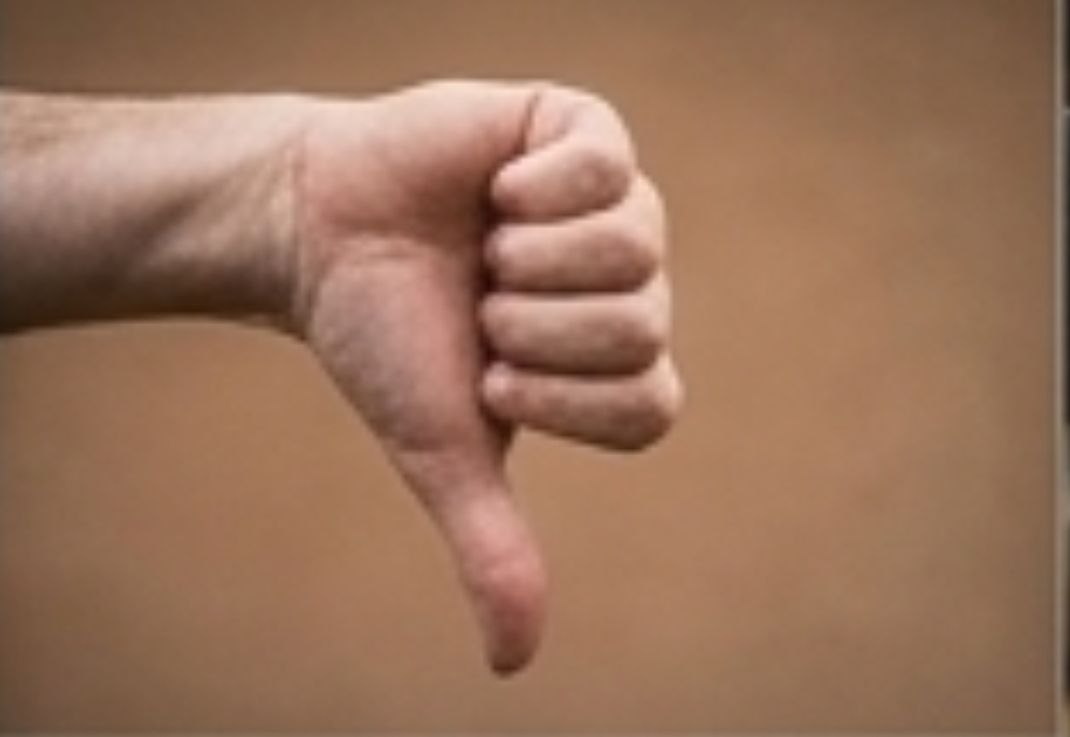Thumbs down: (245, 53, 716, 698)
